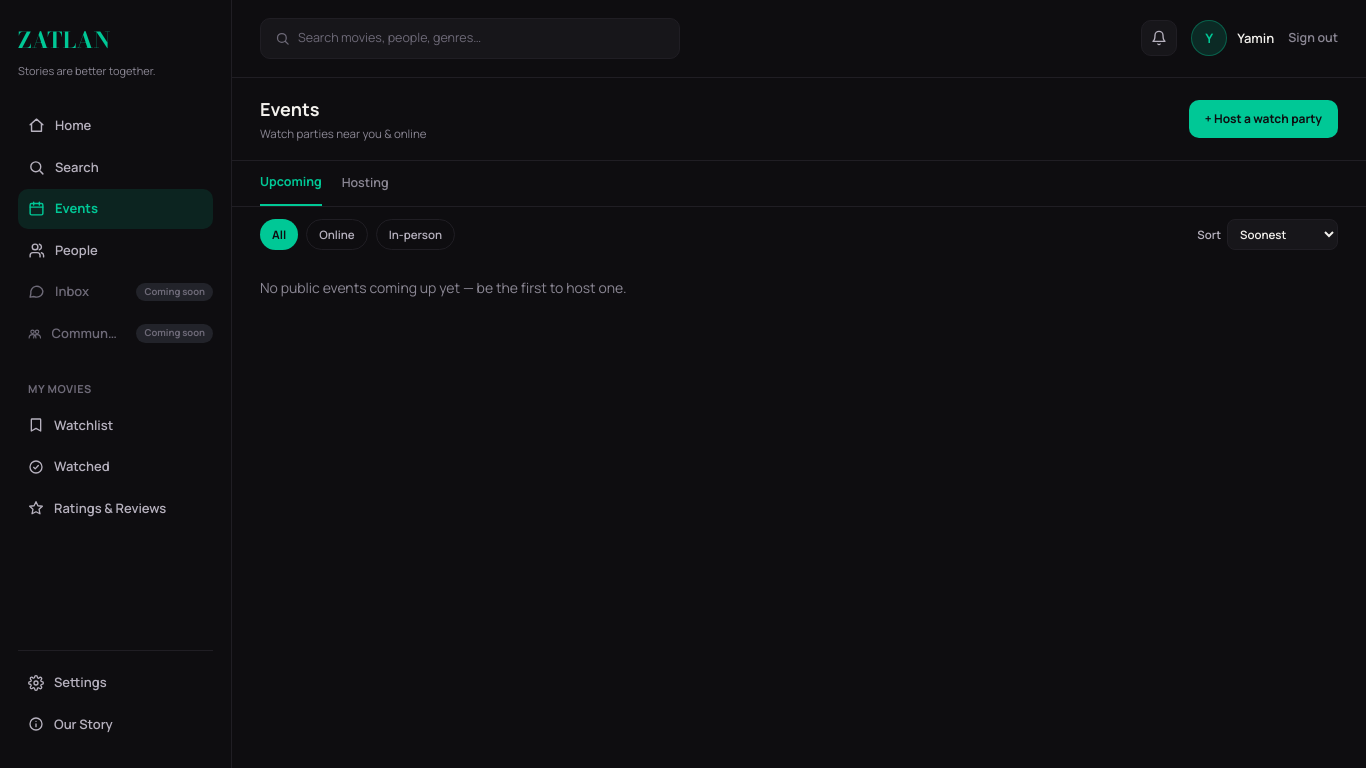
Test: EventsPage › opens the create-event modal from "Host a watch party"
Click the button "+ Host a watch party" at [1263, 119], box [1189, 100, 1338, 138]
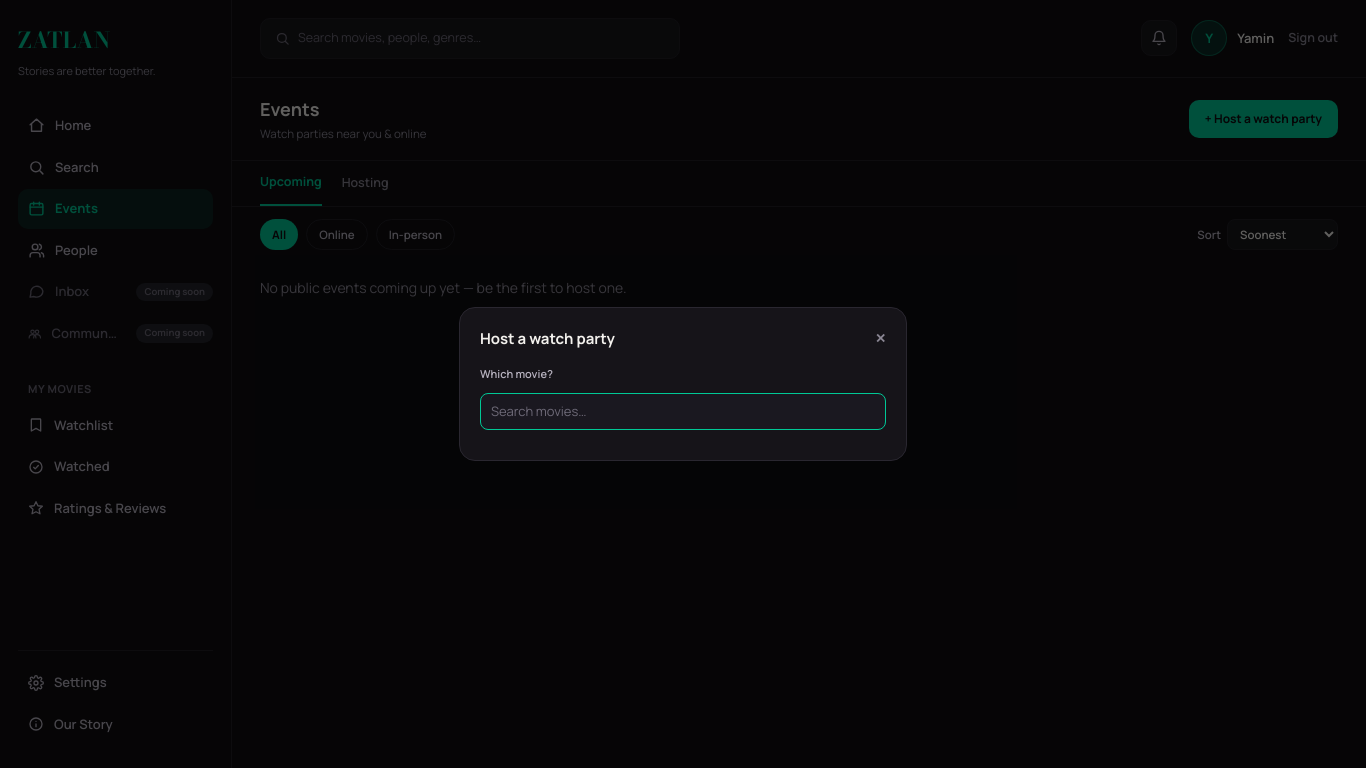
Now the dialog "Host a watch party ✕ Which movie?" is shown, box [459, 307, 907, 461]
